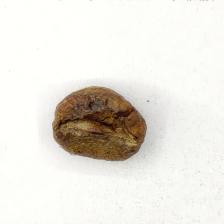NG: (55, 86, 141, 161)
